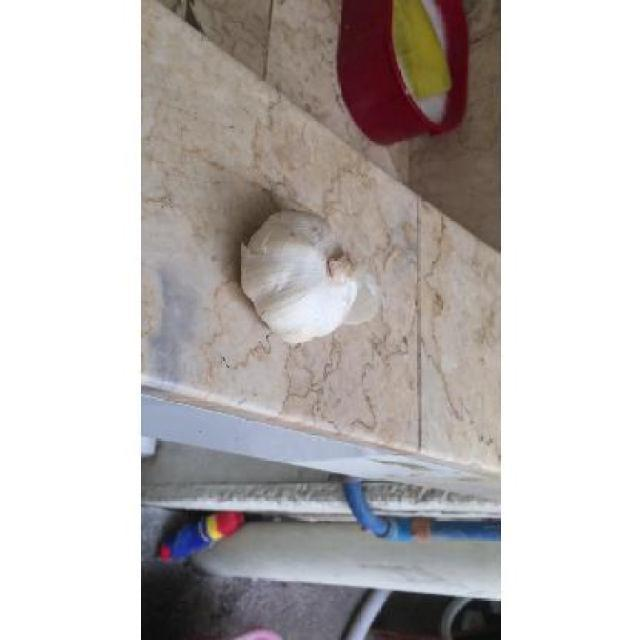garlic: (241, 210, 374, 343)
